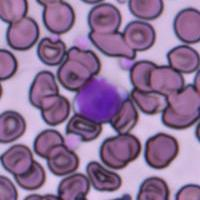L: (74, 74, 128, 123)
